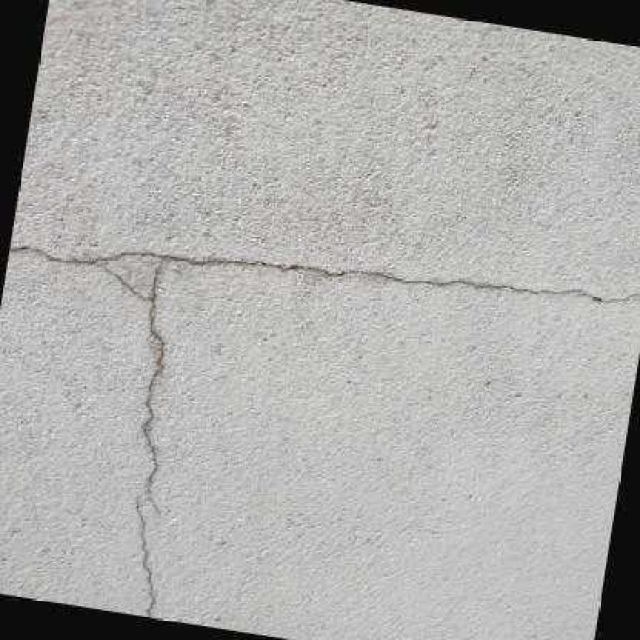D00: (134, 258, 162, 617), (7, 246, 322, 271)
